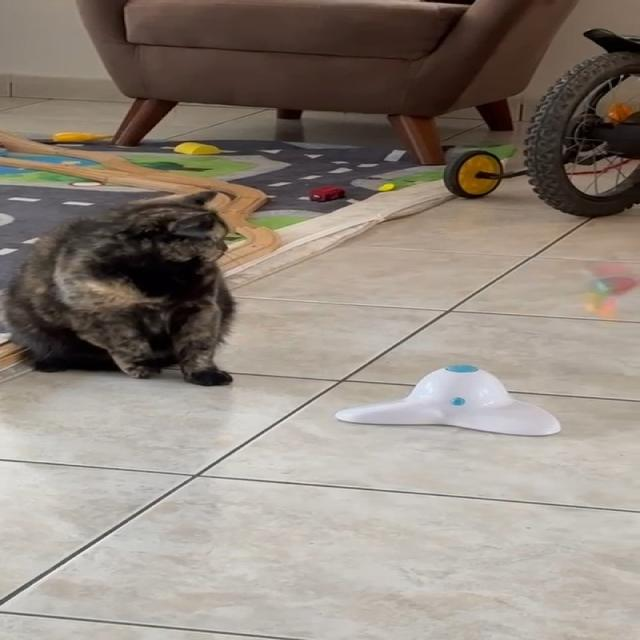authorized: (0, 189, 237, 386)
